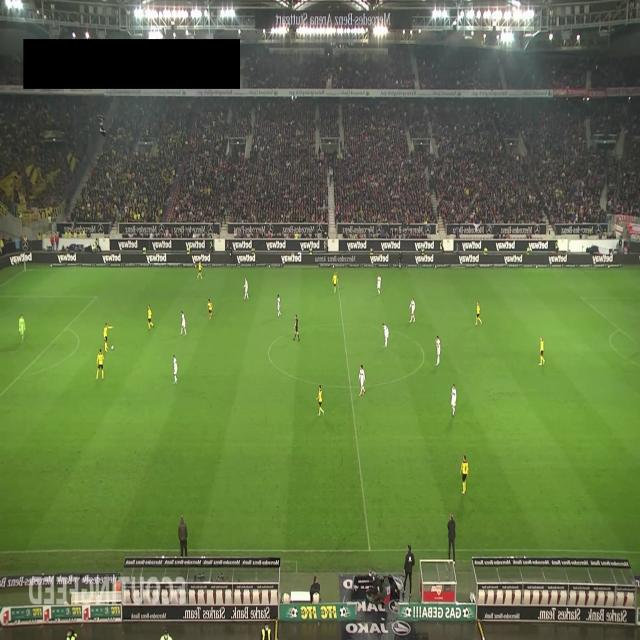ball: (110, 344, 114, 351)
goalkeeper: (18, 313, 26, 343)
player: (460, 454, 469, 495), (103, 322, 113, 351), (96, 348, 104, 380), (358, 364, 366, 396), (317, 384, 324, 417), (408, 297, 416, 323), (539, 334, 545, 366), (435, 334, 441, 366), (451, 384, 457, 416), (382, 322, 389, 348), (180, 310, 187, 336), (475, 300, 482, 325), (148, 304, 154, 330), (173, 354, 178, 384), (332, 271, 338, 294), (207, 298, 213, 321), (243, 277, 249, 300), (196, 261, 203, 280), (277, 293, 281, 317), (377, 273, 381, 295)
referee: (292, 314, 300, 341), (398, 248, 403, 271)
